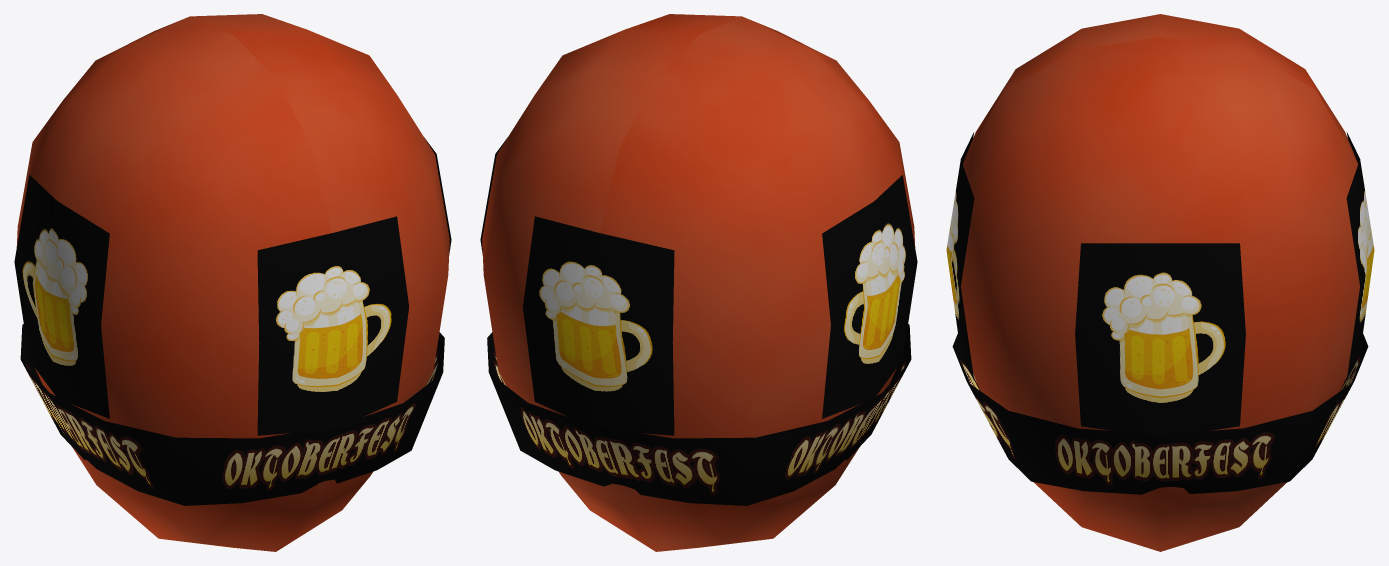
The model's file is Balloon_Interactible_Red_Art.fbx.
3 renders of one model, left to right at view 1: azimuth 30°, elevation 25°; view 2: azimuth 150°, elevation 25°; view 3: azimuth 270°, elevation 25°, orthographic.
Parts seen in each view (by area): view 1: Oktoberfest_RedBalloon; view 2: Oktoberfest_RedBalloon; view 3: Oktoberfest_RedBalloon.
Boxes of the visible parts, x1,y1,x2,y2 form: Oktoberfest_RedBalloon: (14, 14, 451, 551); Oktoberfest_RedBalloon: (480, 14, 917, 551); Oktoberfest_RedBalloon: (946, 14, 1374, 551).
Size of the model in its own units: 73.93 by 96.46 by 73.93.
